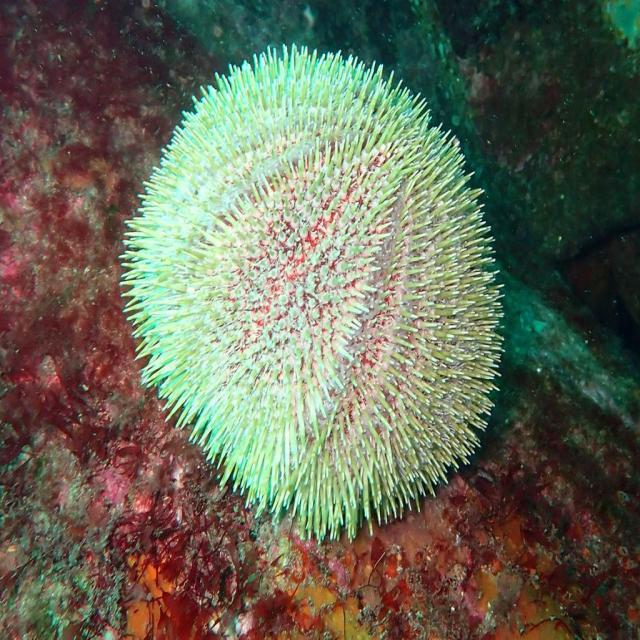Deniz Kestanesi: (118, 42, 504, 544)
